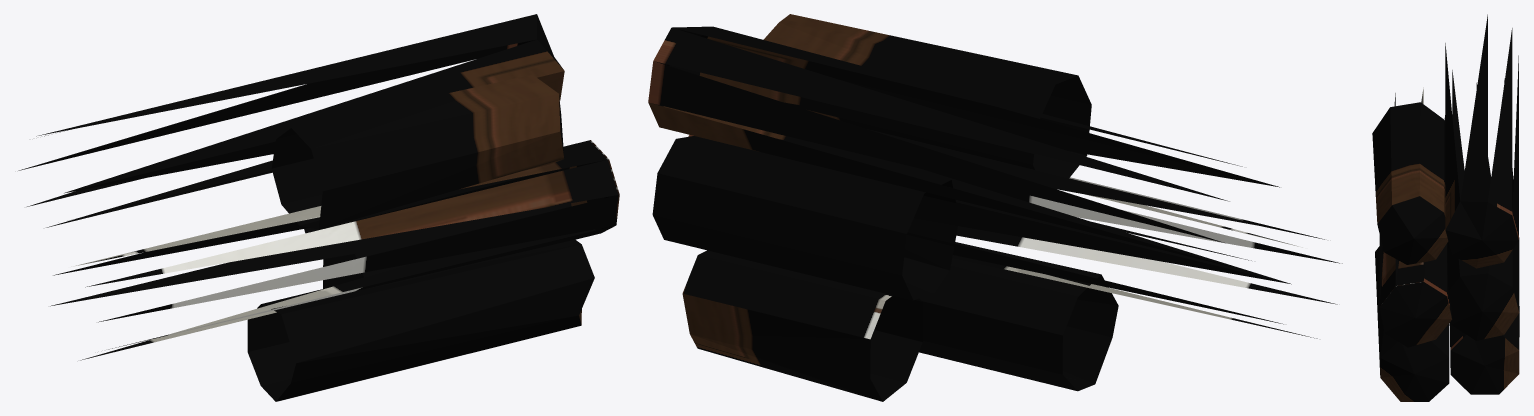
The picture shows the model from 3 angles, left to right: view 1: azimuth 30°, elevation 25°; view 2: azimuth 150°, elevation 25°; view 3: azimuth 270°, elevation 25°; orthographic projection. The views are drawn at different scales.
Bounding box in the file's own units: 1.66 × 0.8086 × 0.5172.
